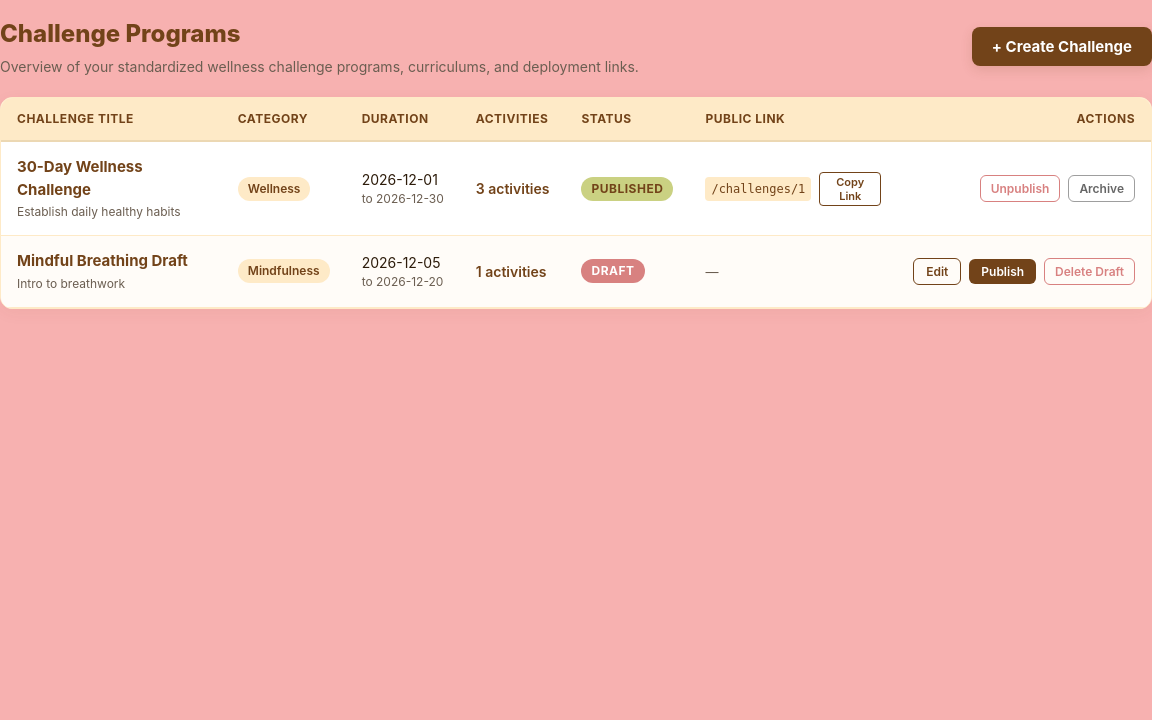
Scenario: Program Builder Component (UI-07) › confirms and publishes a draft challenge from the table
Later steps or results of the test are not shown.
expect the text "Mindful Breathing Draft" is shown: met, box [17,250,206,272]
Click Publish button on draft row
Click the button "Publish": [1003, 271] box [969,259,1036,284]
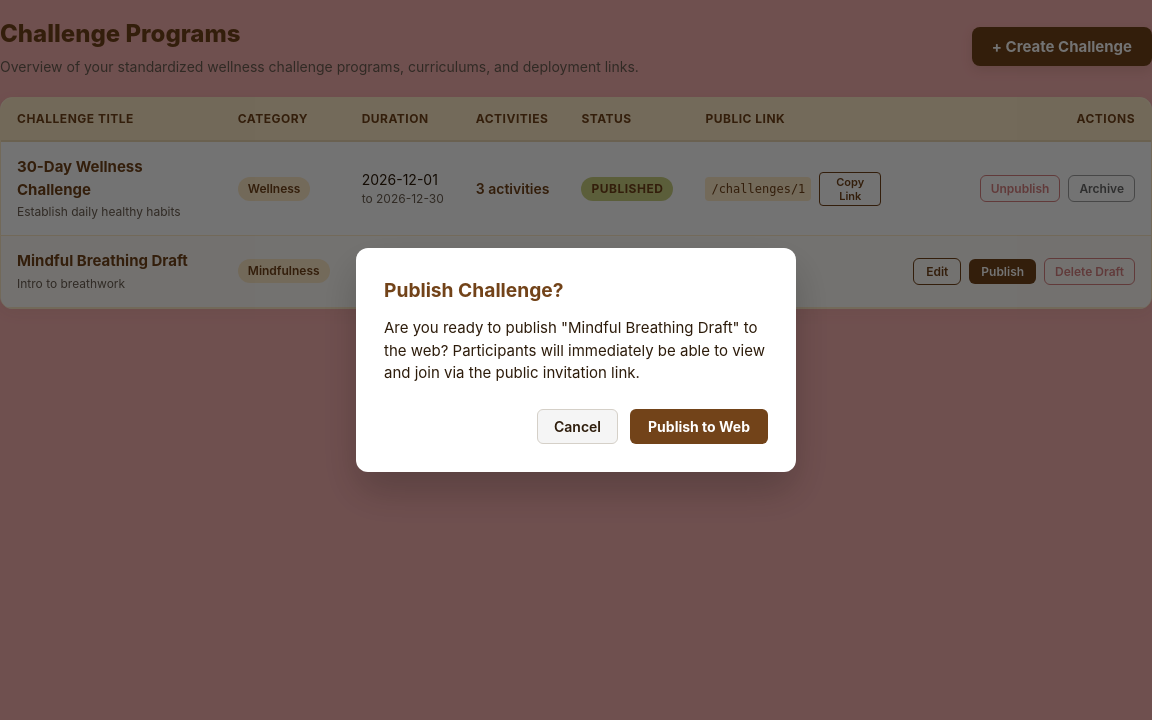
expect the heading "Publish Challenge?" is shown: met, box [384,278,564,302]
